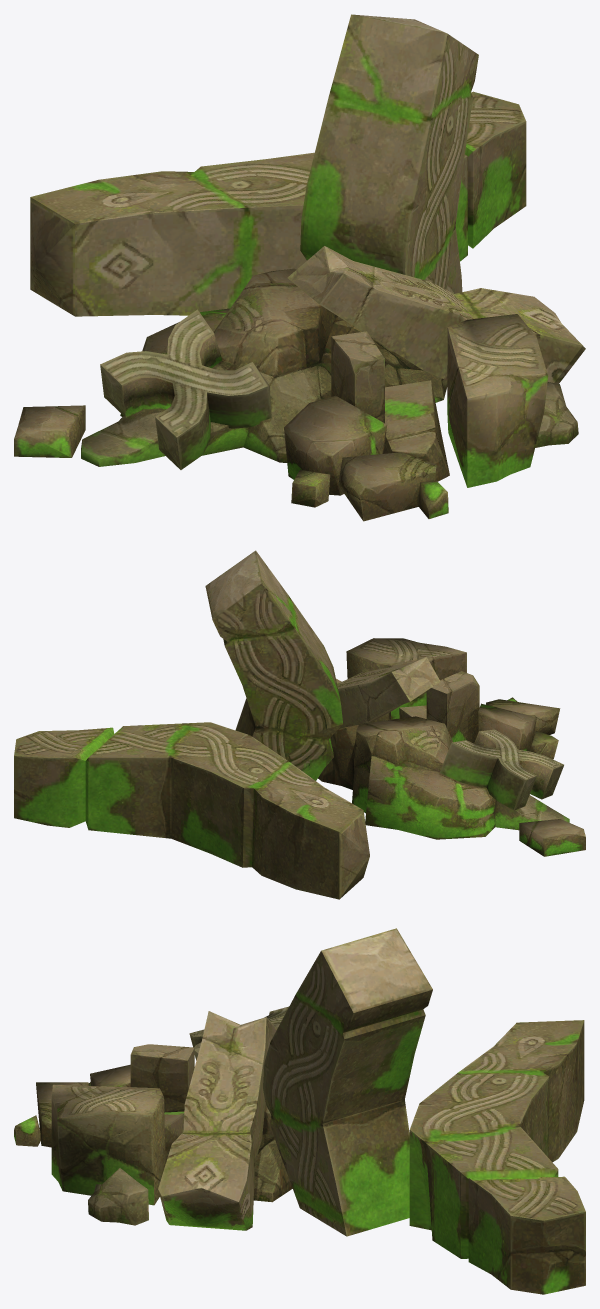
Rendered from stone39.FBX.
The picture shows the model from 3 angles, top to bottom: view 1: azimuth 30°, elevation 25°; view 2: azimuth 150°, elevation 25°; view 3: azimuth 270°, elevation 25°; orthographic projection. The views are drawn at different scales.
Visible parts, largest first — view 1: stone39-1, stone39-2; view 2: stone39-1, stone39-2; view 3: stone39-1, stone39-2.
Part boxes in pixels (<box>): stone39-1: <box>14,14,585,521</box>; stone39-2: <box>81,309,578,469</box>; stone39-1: <box>14,550,585,899</box>; stone39-2: <box>440,729,569,830</box>; stone39-1: <box>14,928,585,1294</box>; stone39-2: <box>57,1006,288,1225</box>.
Size of the model in its own units: 1009 by 471 by 895.
